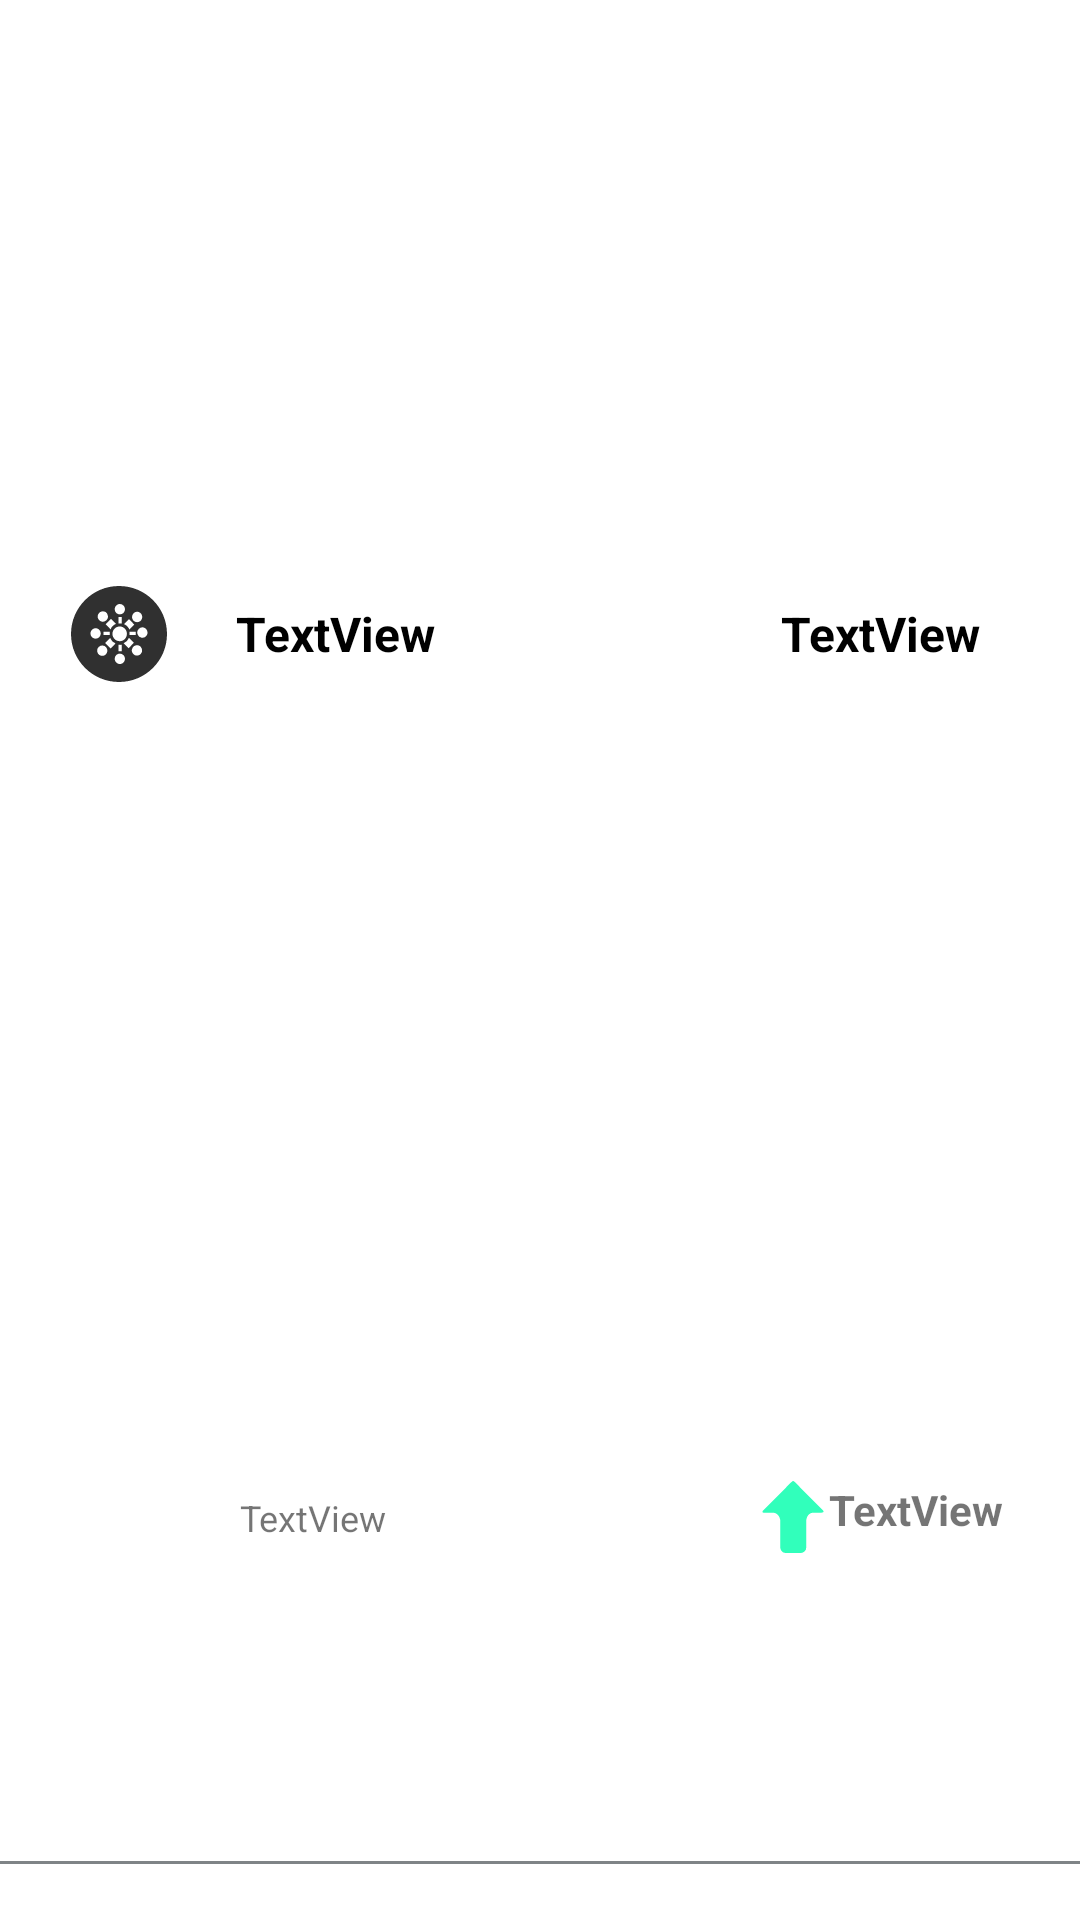

Icon click points for this 1080x1920 phone screenshot, format [x,y]:
crypto: [119,634]
